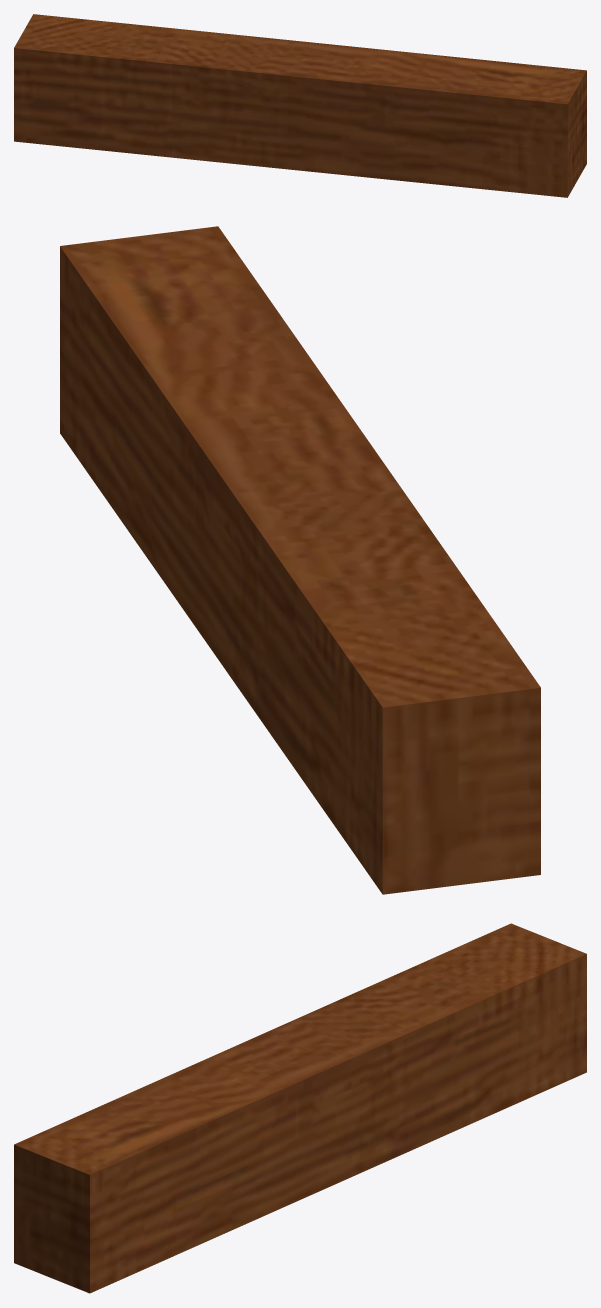
File: frame__rear_upright_pos.glb
3 views of the same model, one above another, from view 1: azimuth 30°, elevation 25°; view 2: azimuth 150°, elevation 25°; view 3: azimuth 270°, elevation 25° (orthographic). The views are drawn at different scales.
Parts seen in each view (by area): view 1: geometry_0; view 2: geometry_0; view 3: geometry_0.
Boxes of the visible parts, x1=… form: geometry_0: x1=14, y1=14, x2=586, y2=197; geometry_0: x1=60, y1=226, x2=540, y2=894; geometry_0: x1=14, y1=923, x2=586, y2=1293.
Size of the model in its own units: 0.2275 by 0.05 by 0.219.
1 material, 1 textured.
